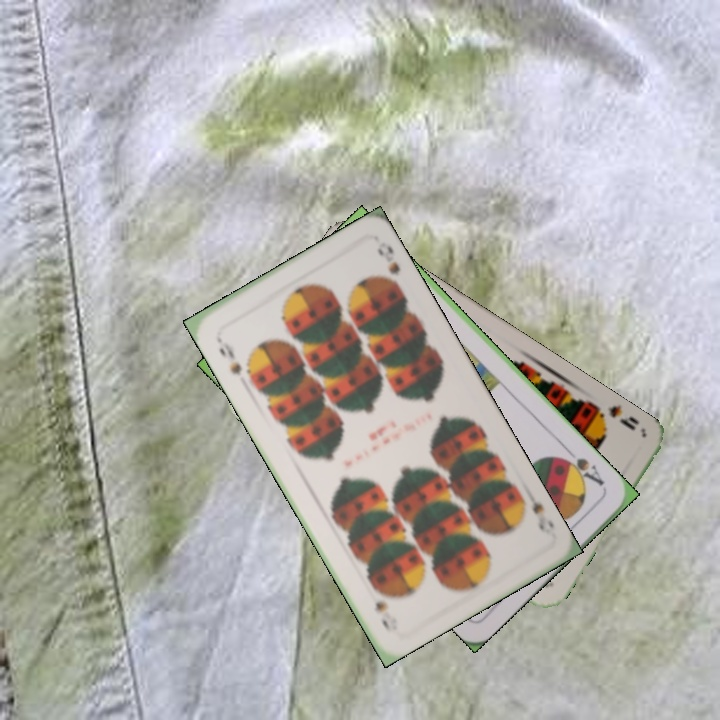S9: (521, 484, 557, 539), (590, 400, 642, 433), (211, 331, 245, 379)
SA: (556, 445, 607, 489)
